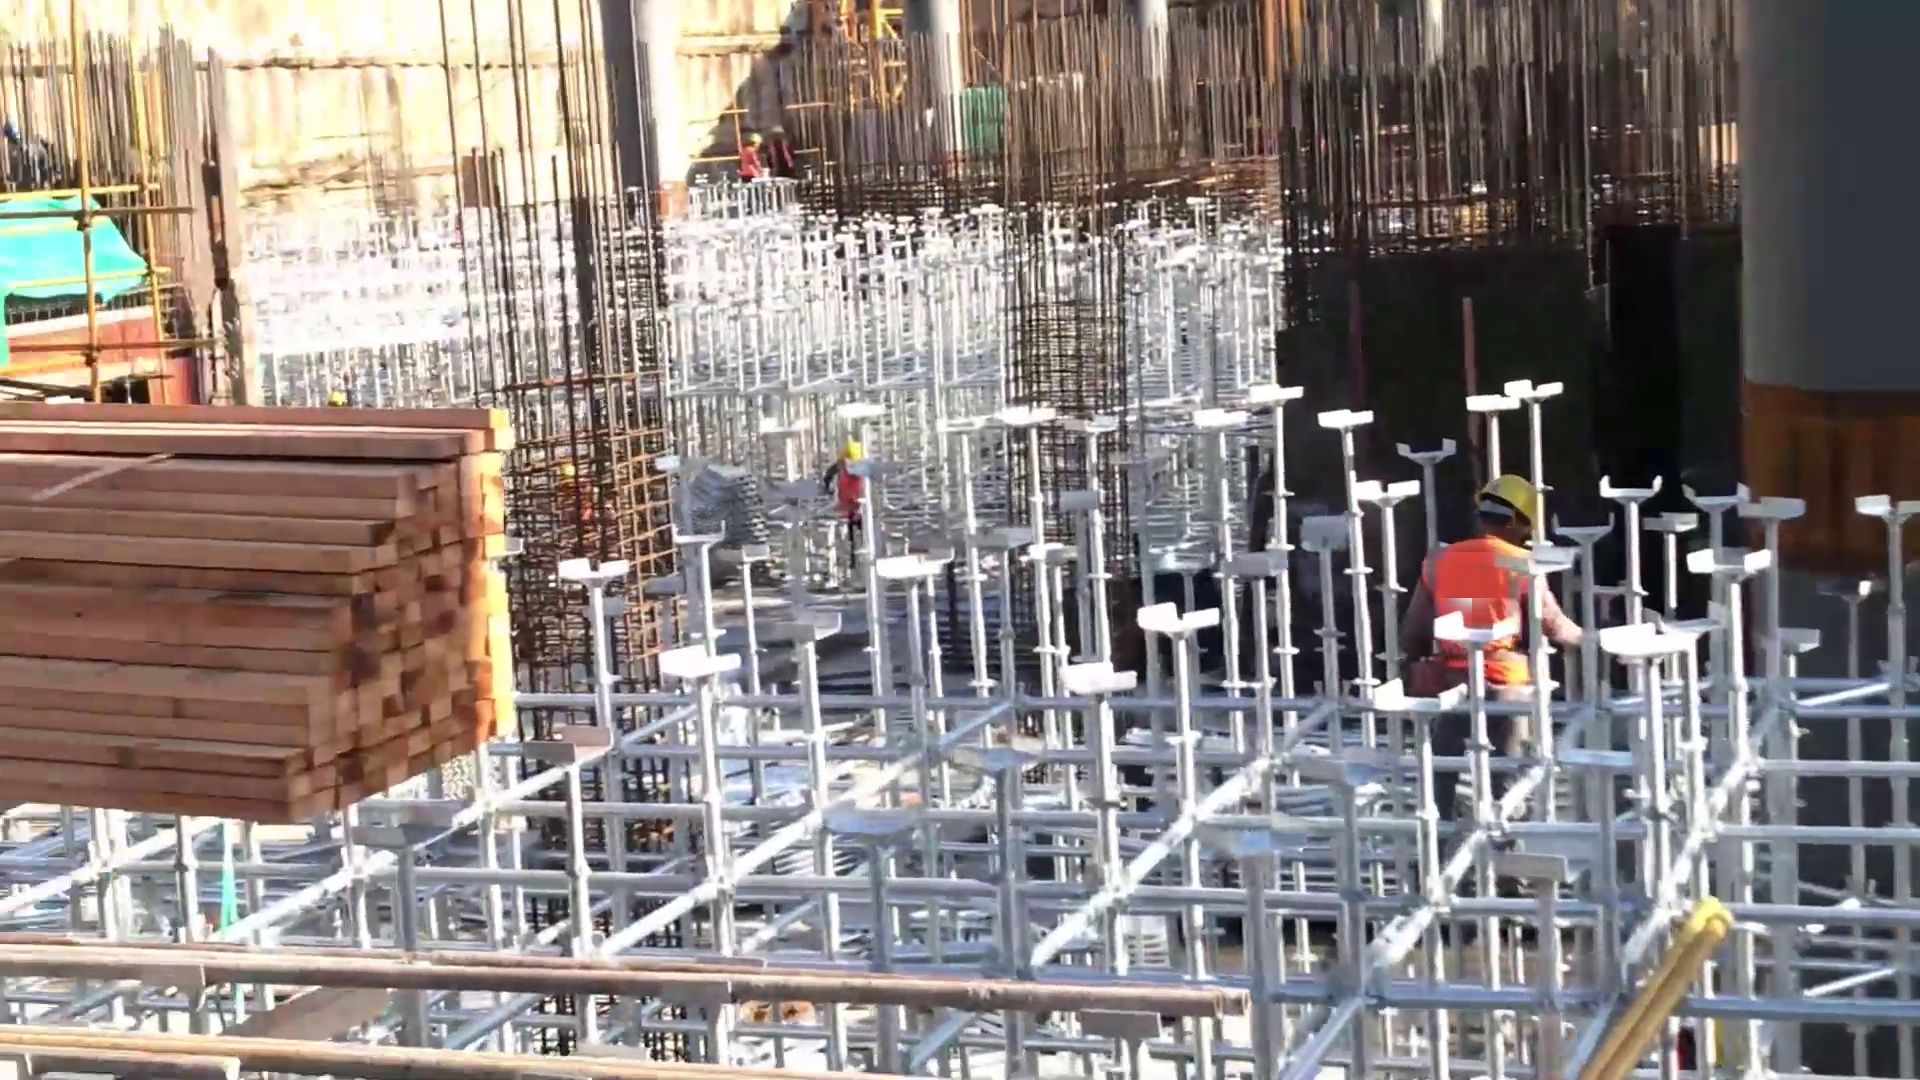helmet: (1458, 462, 1565, 531), (843, 429, 862, 465), (746, 129, 766, 150)
vest: (1419, 533, 1531, 688), (832, 460, 877, 522), (736, 149, 758, 183)
wood: (1, 404, 529, 811)
